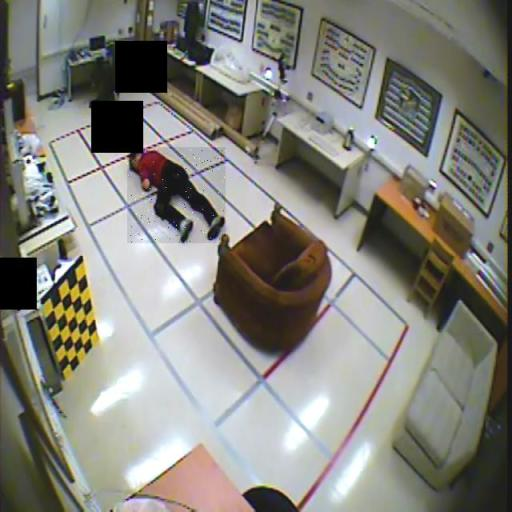Fall: (127, 147, 226, 243)
